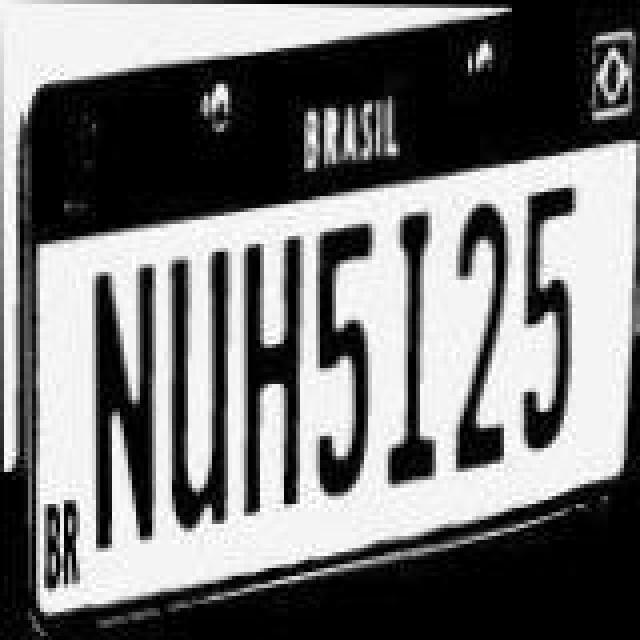2: (446, 180, 518, 464)
5: (312, 202, 380, 486), (522, 168, 586, 436)
H: (238, 220, 310, 508)
I: (382, 188, 446, 476)
N: (90, 252, 162, 560)
U: (162, 232, 234, 532)
